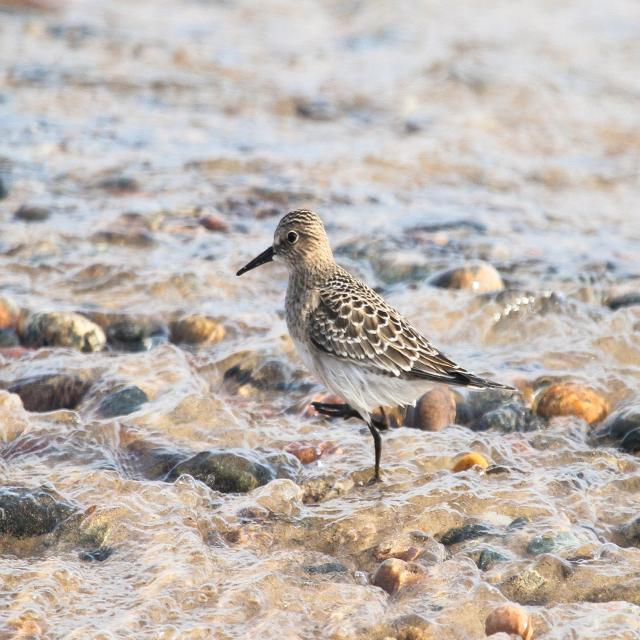Sandpiper: (235, 204, 490, 489)
